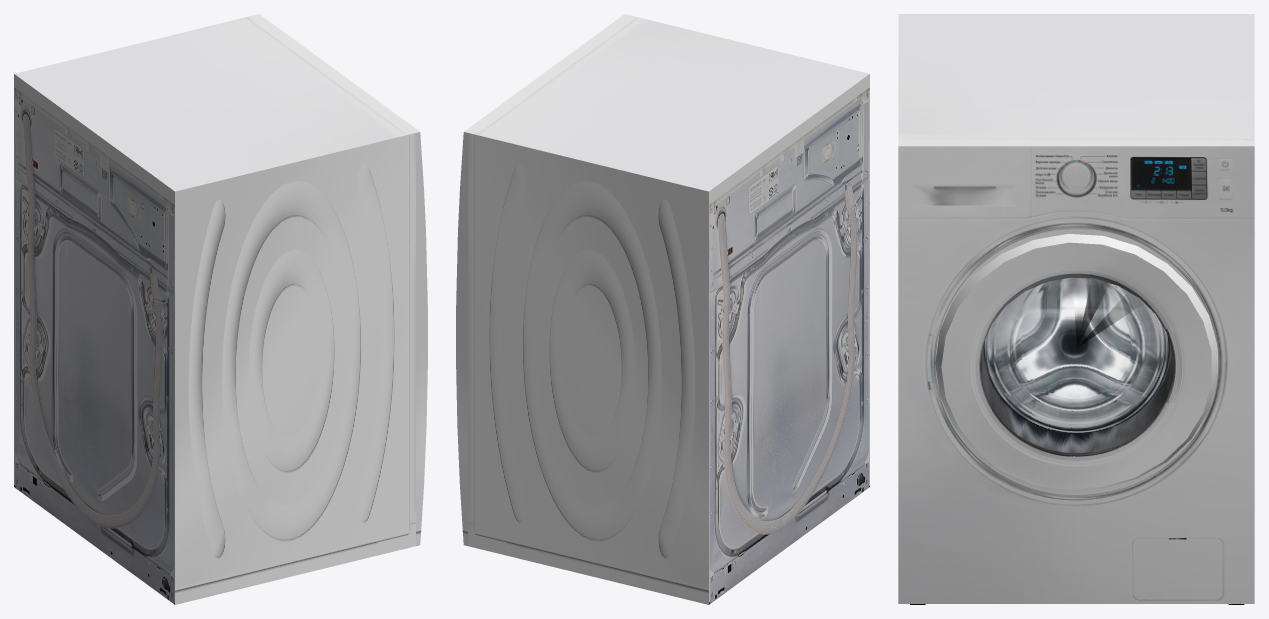
Rendered from 523748F9-3DAA-4D36-ADFA-AEE1CDB3A9F7.dae.
The picture shows the model from 3 angles, left to right: view 1: azimuth 30°, elevation 25°; view 2: azimuth 150°, elevation 25°; view 3: azimuth 270°, elevation 25°; orthographic projection. The views are drawn at different scales.
Visible parts, largest first — view 1: Washing_machine_white; view 2: Washing_machine_white; view 3: Washing_machine_white.
Boxes of the visible parts, x1,y1,x2,y2 form: Washing_machine_white: (14, 14, 427, 604); Washing_machine_white: (456, 14, 869, 604); Washing_machine_white: (898, 14, 1254, 604).
Size of the model in its own units: 0.5601 by 0.858 by 0.6.
Materials: 5 (4 with a texture image).
